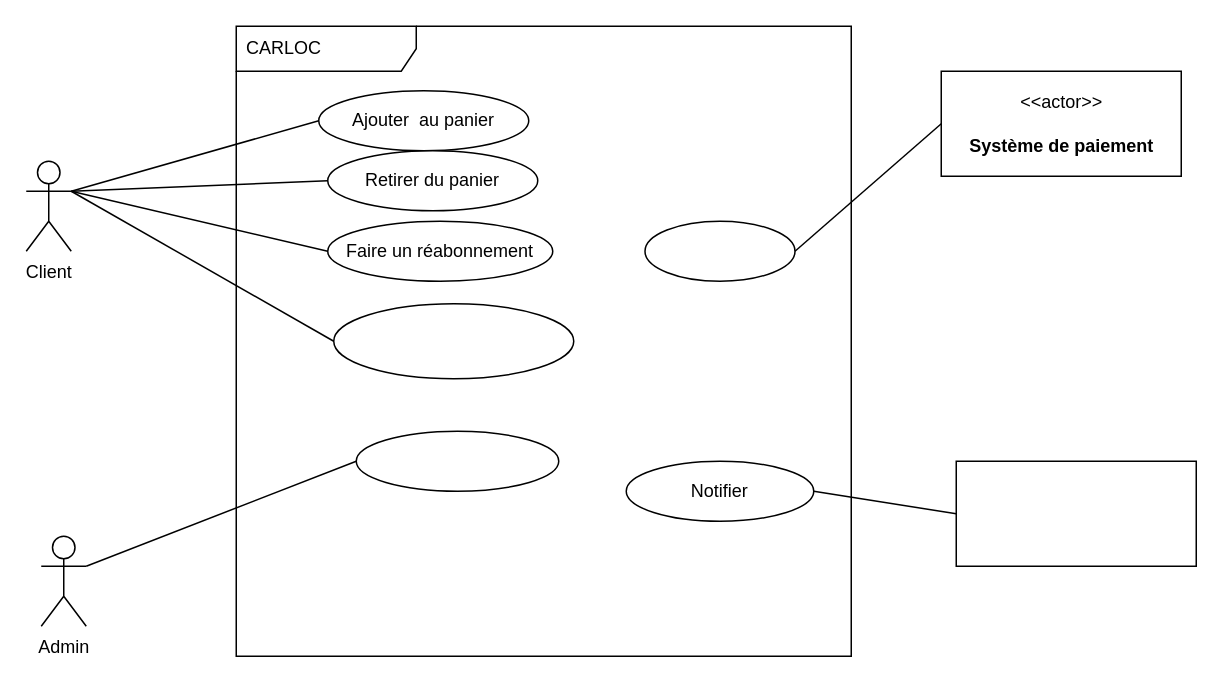
The diagram is 1223 pixels wide and 684 high, and some of its shapes have lost their labels. The centre of each missing label's shape, as x and y in pixels:
<<actor>> Système de notification: (1075,513)
CRUD des Voitures: (457,460)
faire une réservation: (453,340)
Payer: (719,250)
